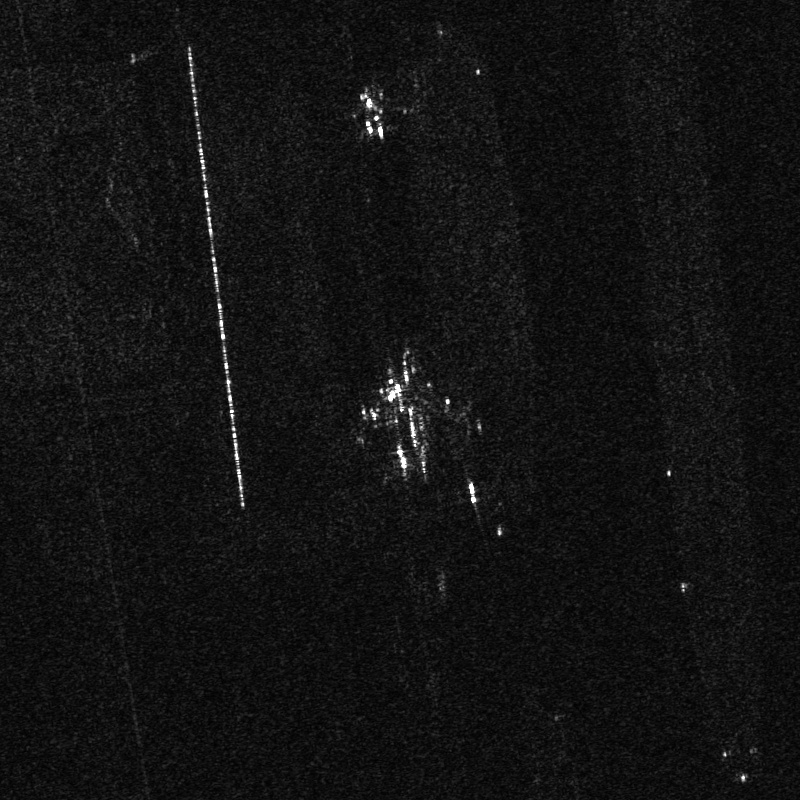A220: (329, 75, 408, 149)
other: (334, 355, 482, 487)
